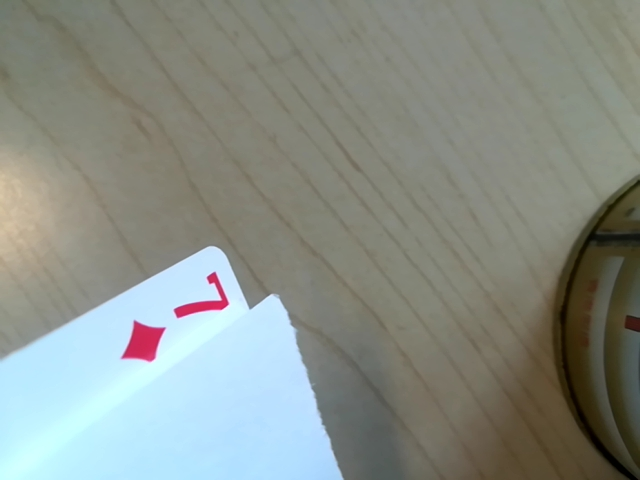fk 7: (111, 264, 251, 348)
